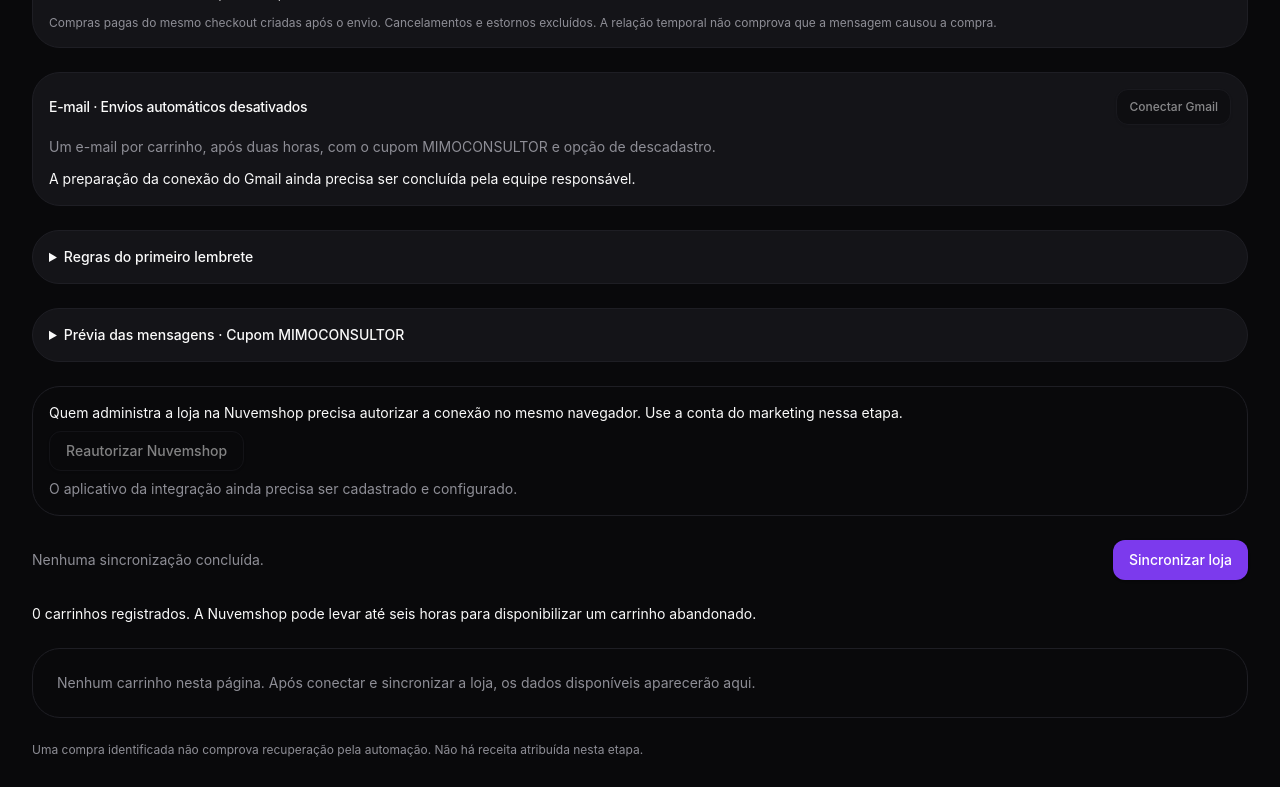
sincroniza somente após ação explícita e preserva feedback de falha
The image size is (1280, 787).
(page scrolled)
Click the button "Sincronizar loja" at (1180, 560), box [1113, 540, 1248, 580]
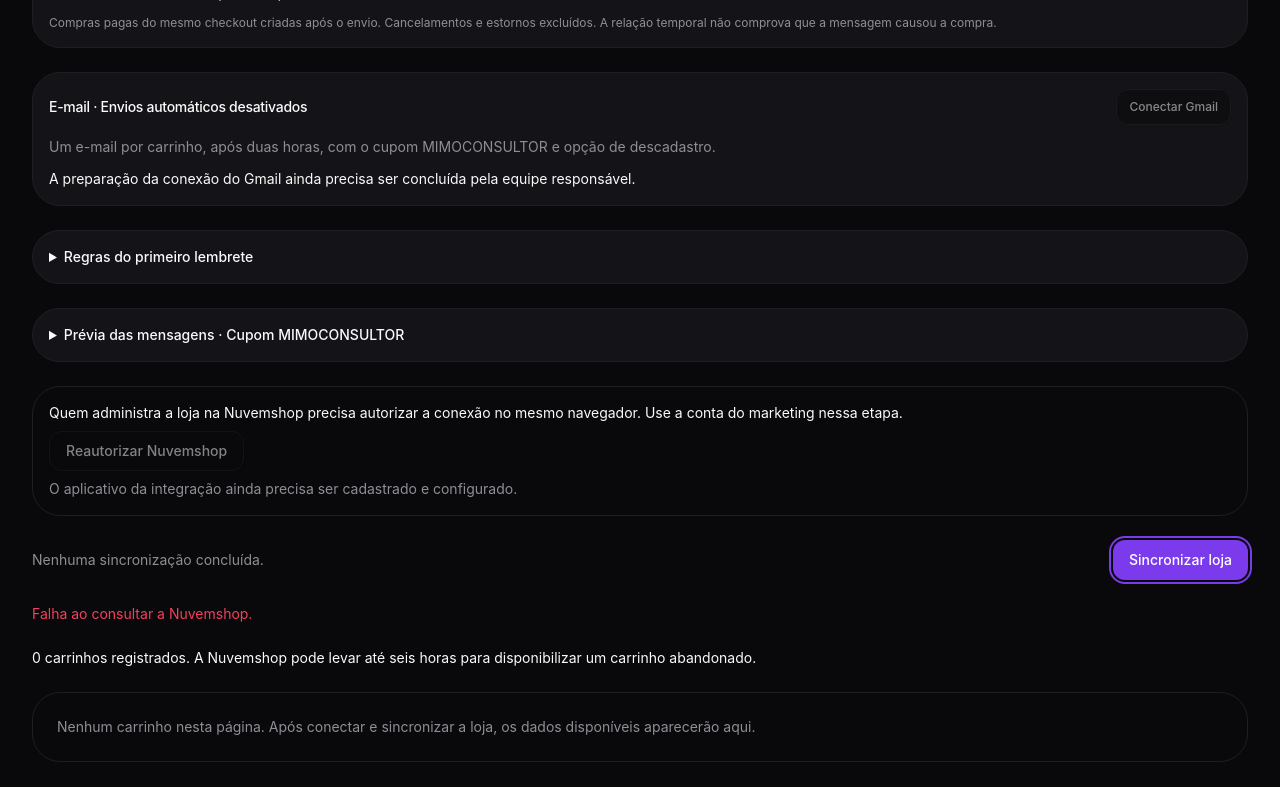
Now the message shows "Falha ao consultar", box [32, 605, 252, 622]
